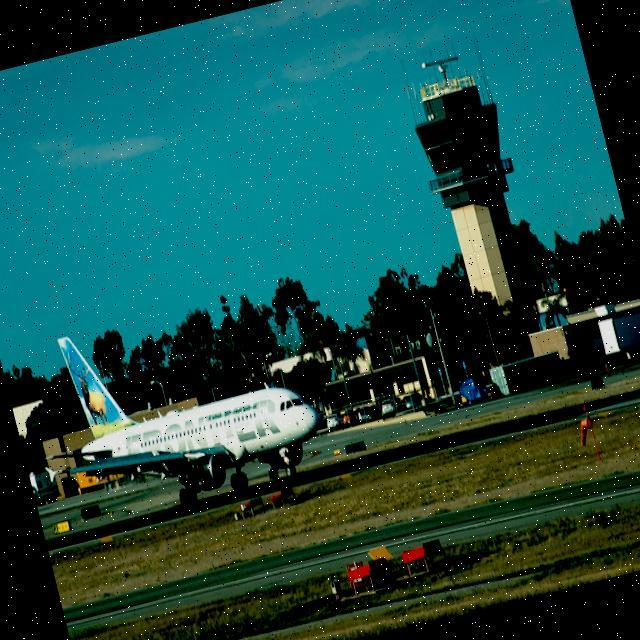fire_hydrant: (604, 361, 610, 375)
